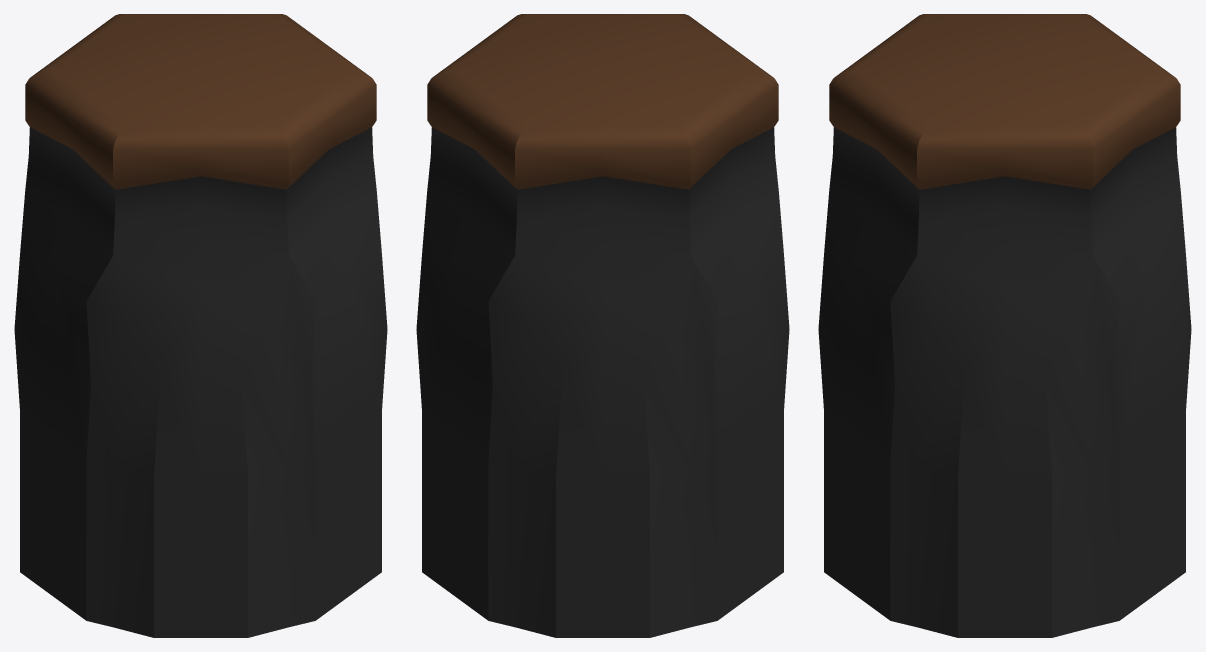
The model's file is SoilTile.obj.
3 views of the same model, side by side, from view 1: azimuth 30°, elevation 25°; view 2: azimuth 150°, elevation 25°; view 3: azimuth 270°, elevation 25° (orthographic).
Parts seen in each view (by area): view 1: Cylinder_Material.003, Cylinder_Material.004; view 2: Cylinder_Material.003, Cylinder_Material.004; view 3: Cylinder_Material.003, Cylinder_Material.004.
Part boxes in pixels (x1,y1,x2,y2): Cylinder_Material.003: (14, 127, 387, 637); Cylinder_Material.004: (25, 14, 376, 189); Cylinder_Material.003: (416, 127, 789, 637); Cylinder_Material.004: (427, 14, 778, 189); Cylinder_Material.003: (818, 127, 1191, 637); Cylinder_Material.004: (829, 14, 1180, 189).
Size of the model in its own units: 1.99 by 3.09 by 2.12.
